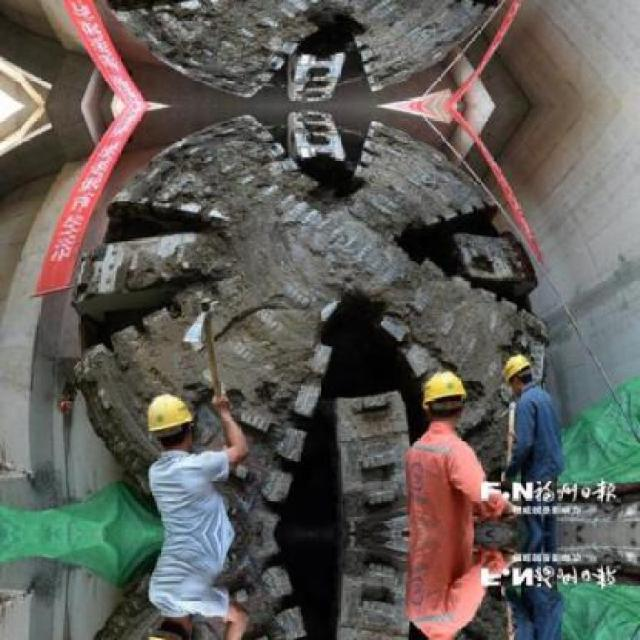helmet: (143, 388, 195, 452), (422, 368, 468, 426), (499, 351, 535, 391), (143, 614, 197, 638)
